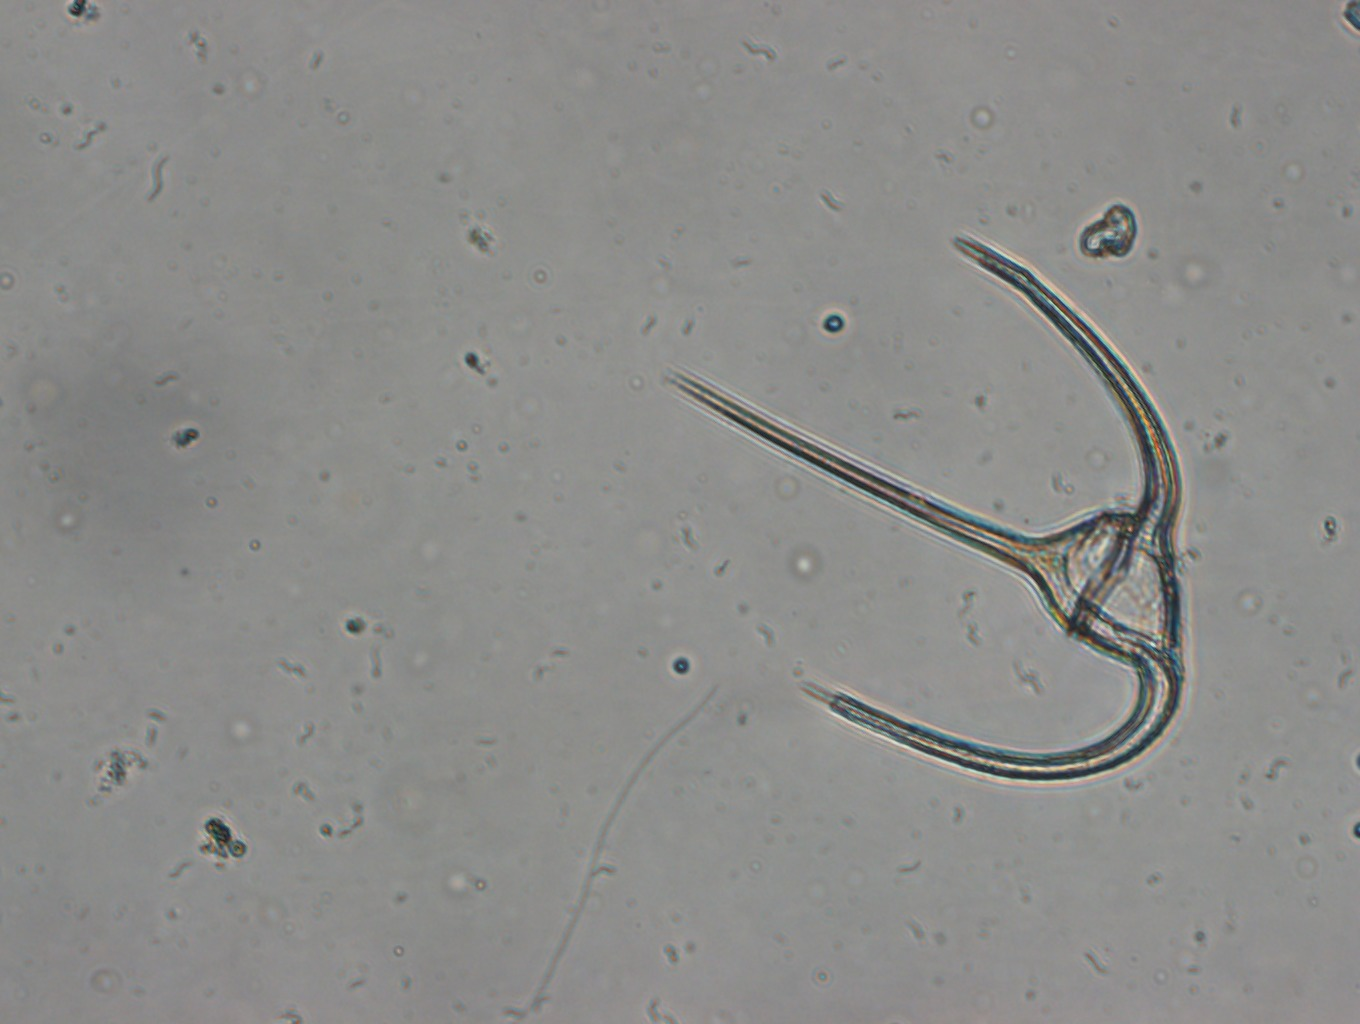ceratium trichoceros: (653, 218, 1196, 793)
